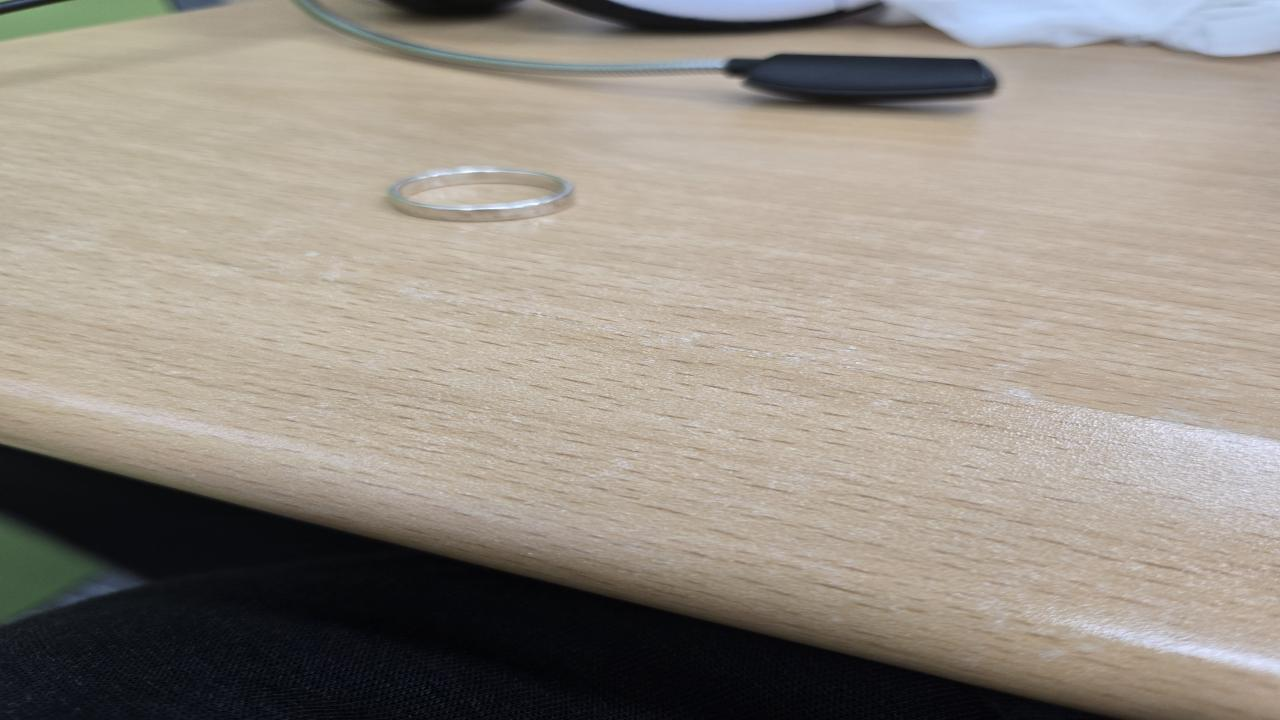ring: (384, 168, 576, 222)
